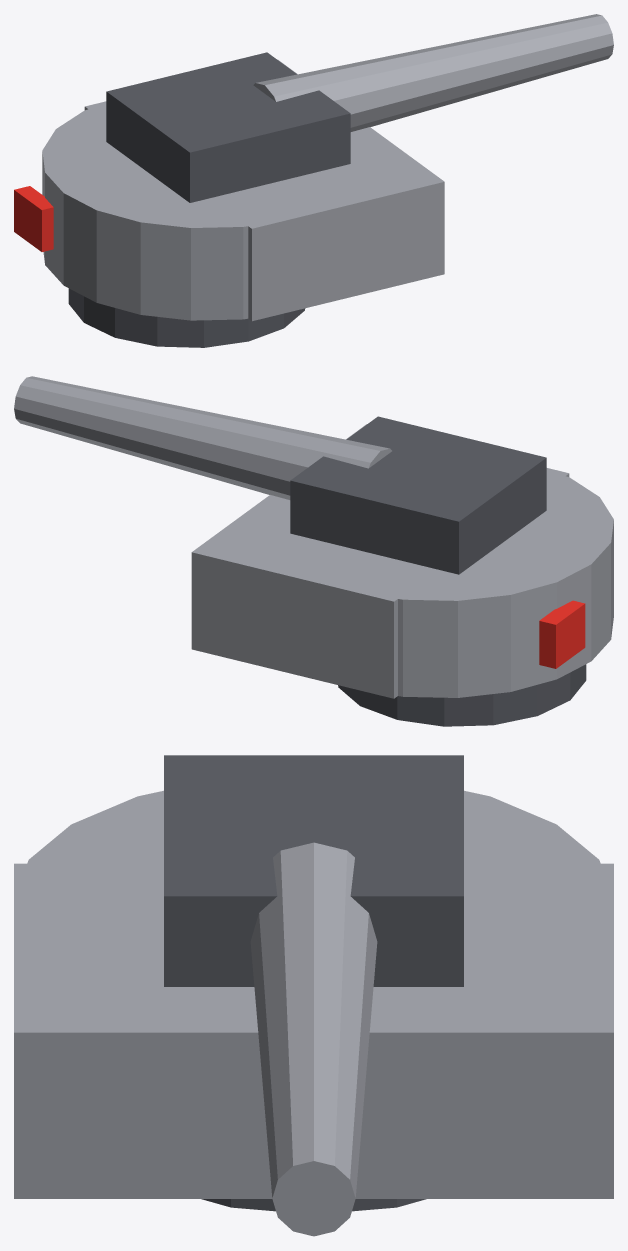
Rendered from vge_compact_uranium_slug.obj.
3 renders of one model, top to bottom at view 1: azimuth 30°, elevation 25°; view 2: azimuth 150°, elevation 25°; view 3: azimuth 270°, elevation 25°, orthographic. The views are drawn at different scales.
Visible parts, largest first — view 1: vge_compact_uranium_slug_1, vge_compact_uranium_slug_2, vge_compact_uranium_slug_3, vge_compact_uranium_slug_4, vge_compact_uranium_slug_0, vge_compact_uranium_slug_5; view 2: vge_compact_uranium_slug_1, vge_compact_uranium_slug_2, vge_compact_uranium_slug_3, vge_compact_uranium_slug_4, vge_compact_uranium_slug_0, vge_compact_uranium_slug_5; view 3: vge_compact_uranium_slug_2, vge_compact_uranium_slug_3, vge_compact_uranium_slug_4, vge_compact_uranium_slug_1, vge_compact_uranium_slug_0.
Part boxes in pixels (<box>): vge_compact_uranium_slug_1: <box>42,109,374,320</box>; vge_compact_uranium_slug_2: <box>84,60,444,321</box>; vge_compact_uranium_slug_3: <box>106,52,350,202</box>; vge_compact_uranium_slug_4: <box>253,14,613,131</box>; vge_compact_uranium_slug_0: <box>68,288,305,347</box>; vge_compact_uranium_slug_5: <box>14,186,53,251</box>; vge_compact_uranium_slug_1: <box>265,470,613,697</box>; vge_compact_uranium_slug_2: <box>191,424,569,698</box>; vge_compact_uranium_slug_3: <box>290,416,546,574</box>; vge_compact_uranium_slug_4: <box>14,376,391,499</box>; vge_compact_uranium_slug_0: <box>338,664,586,726</box>; vge_compact_uranium_slug_5: <box>539,600,585,668</box>; vge_compact_uranium_slug_2: <box>14,863,613,1198</box>; vge_compact_uranium_slug_3: <box>164,755,463,986</box>; vge_compact_uranium_slug_4: <box>250,842,377,1236</box>; vge_compact_uranium_slug_1: <box>14,790,613,990</box>; vge_compact_uranium_slug_0: <box>201,1199,426,1211</box>.
Size of the model in its own units: 1.36 by 0.46 by 0.72.
